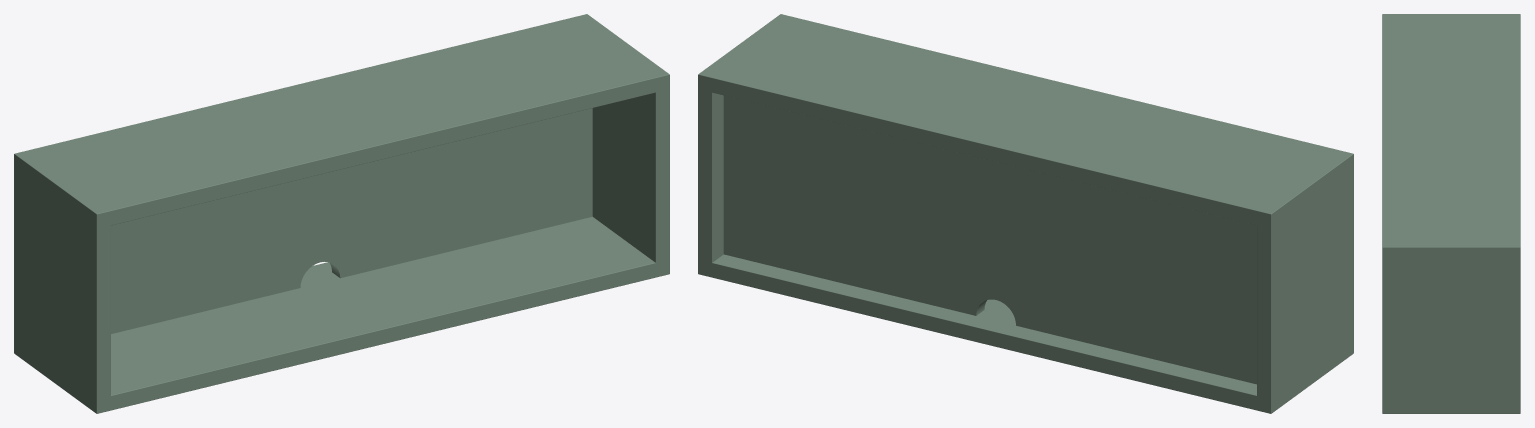
The model's file is MODH_2X07_A_B_AP_VA.glb.
3 renders of one model, left to right at view 1: azimuth 30°, elevation 25°; view 2: azimuth 150°, elevation 25°; view 3: azimuth 270°, elevation 25°, orthographic. The views are drawn at different scales.
Bounding box in the file's own units: 720 × 240 × 180.
